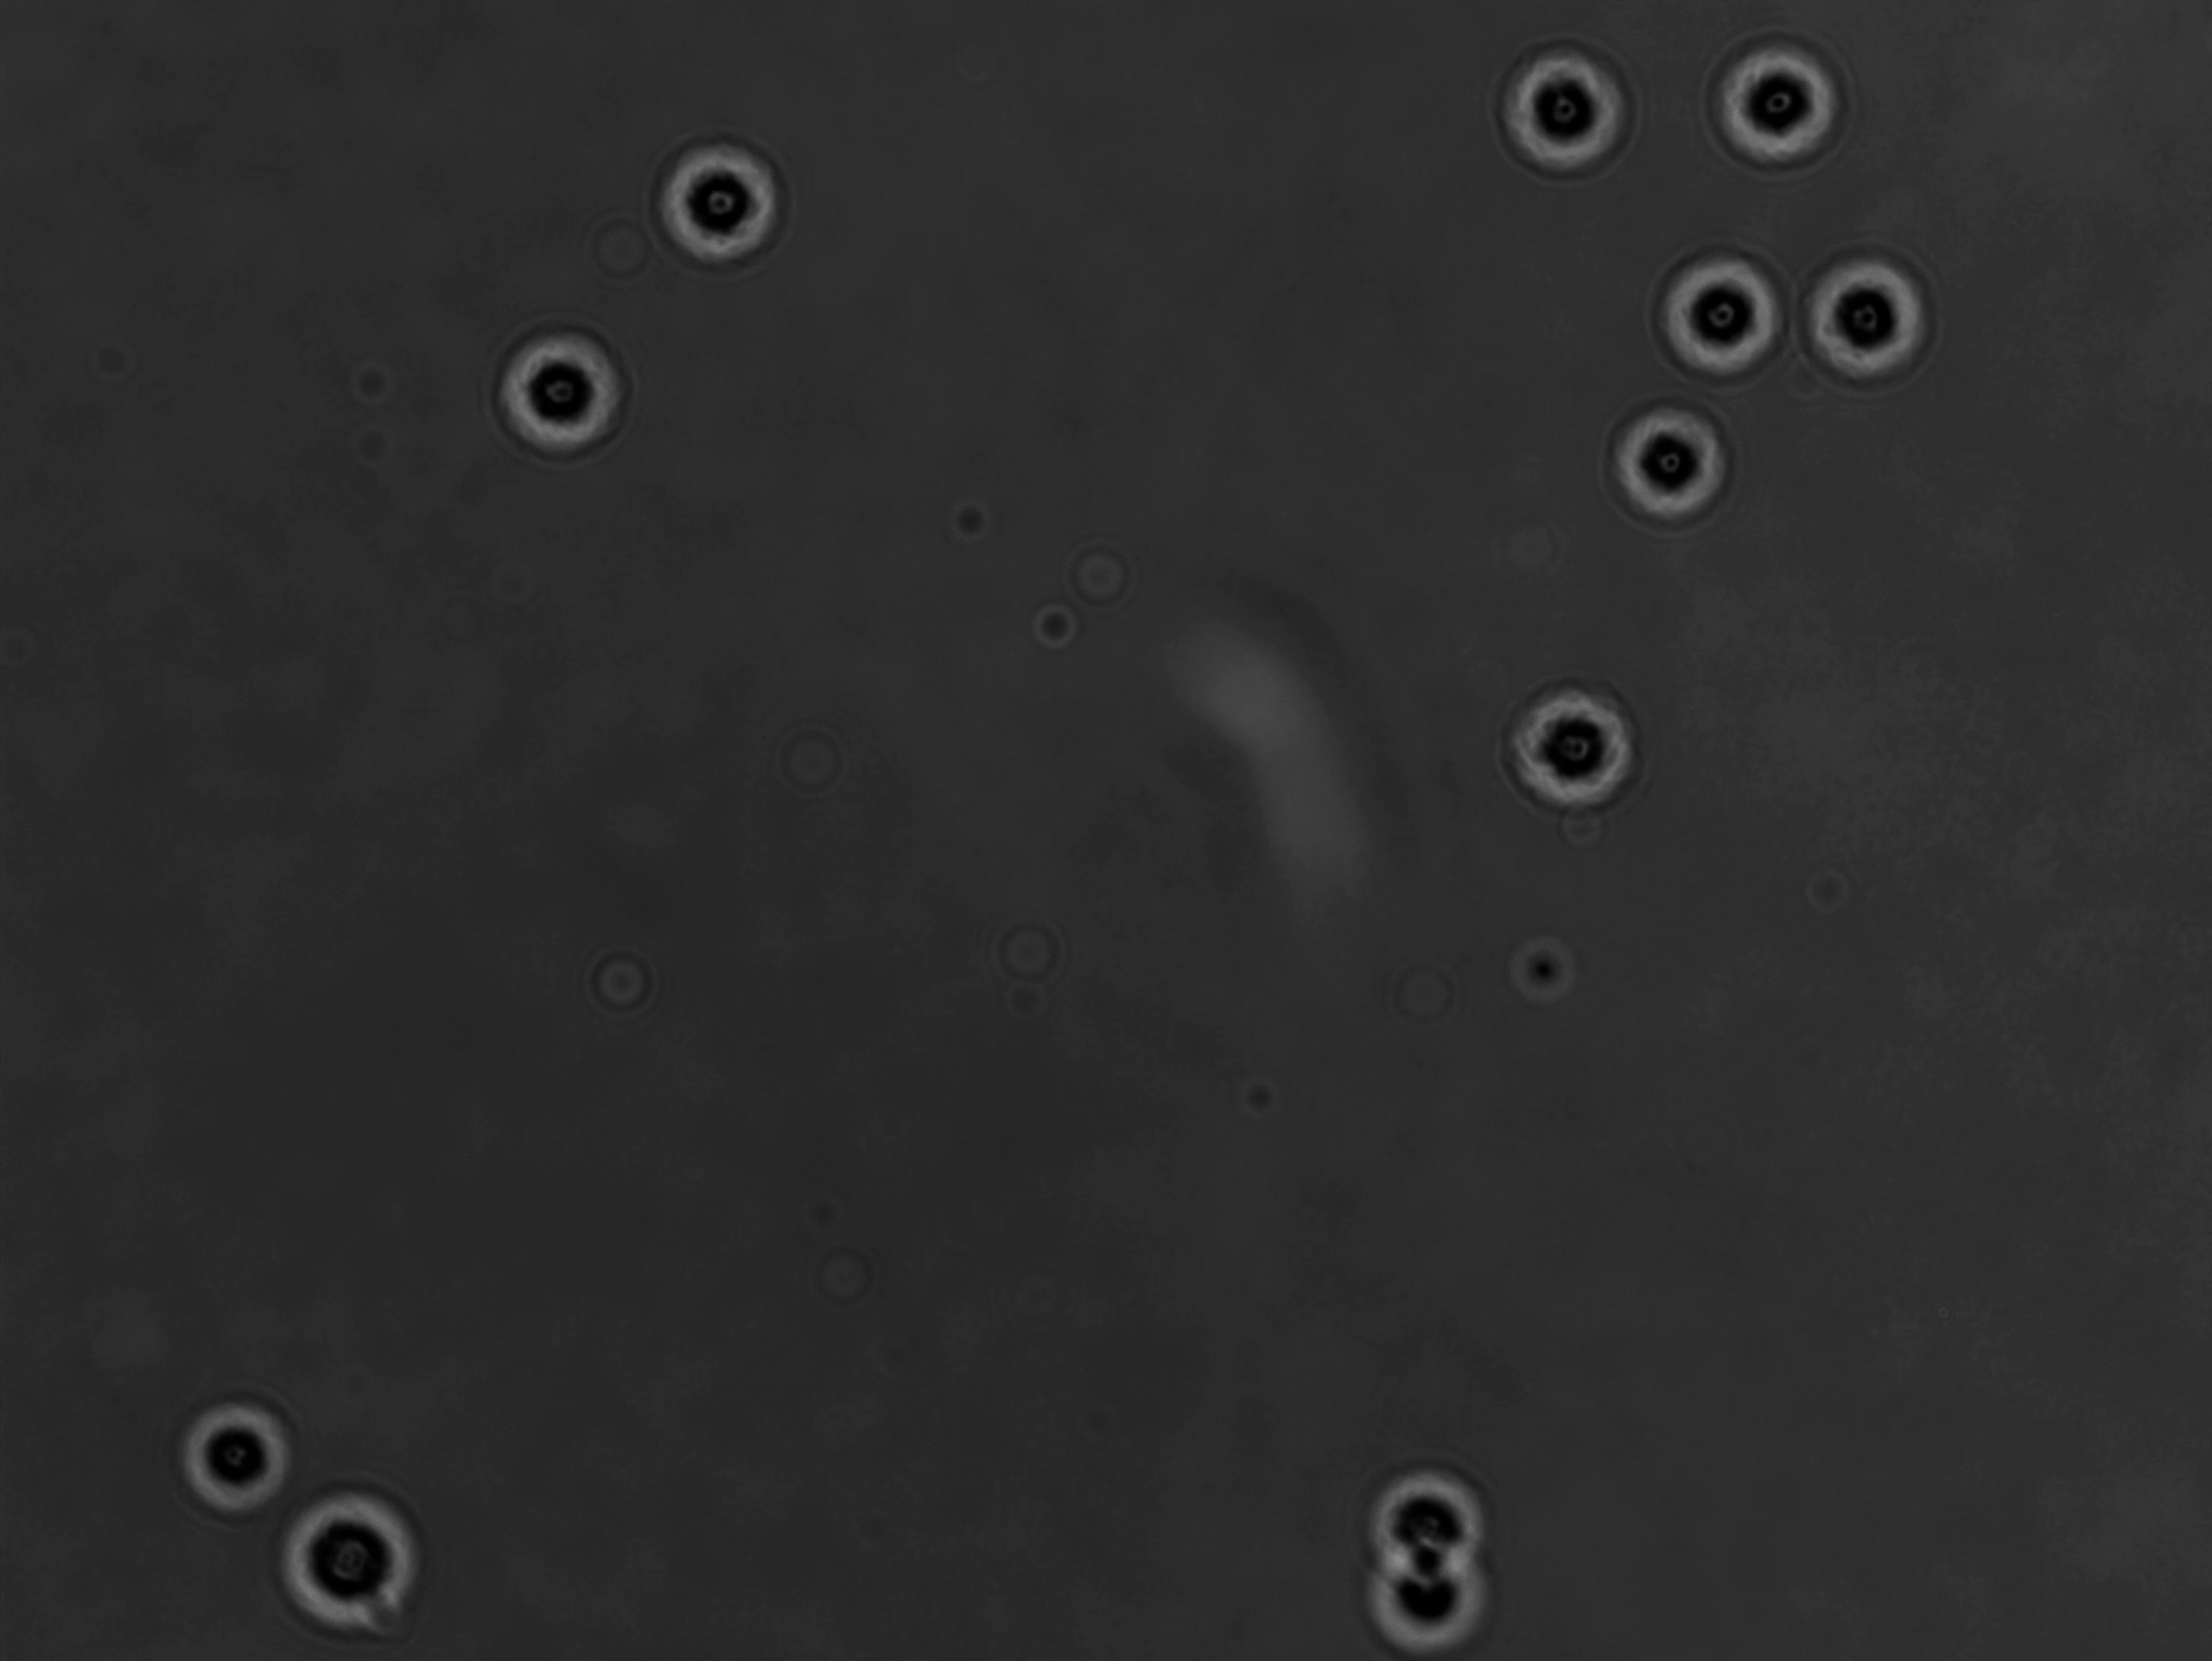depth:-20: (1488, 649, 1675, 836), (263, 1473, 448, 1644), (1483, 30, 1654, 195), (1788, 244, 1954, 412), (485, 314, 651, 480), (1642, 229, 1807, 393), (1692, 26, 1858, 185), (1350, 1441, 1526, 1589), (640, 115, 802, 276), (1333, 1520, 1511, 1661), (1596, 382, 1757, 536)
